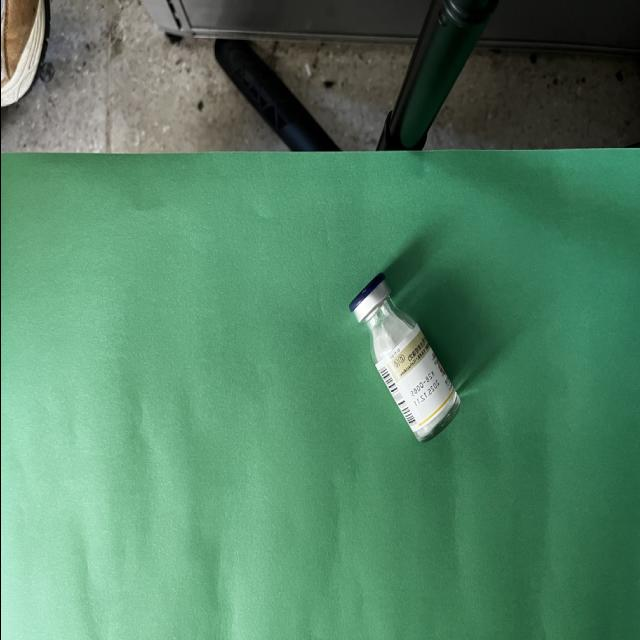Vials: (348, 274, 459, 441)
